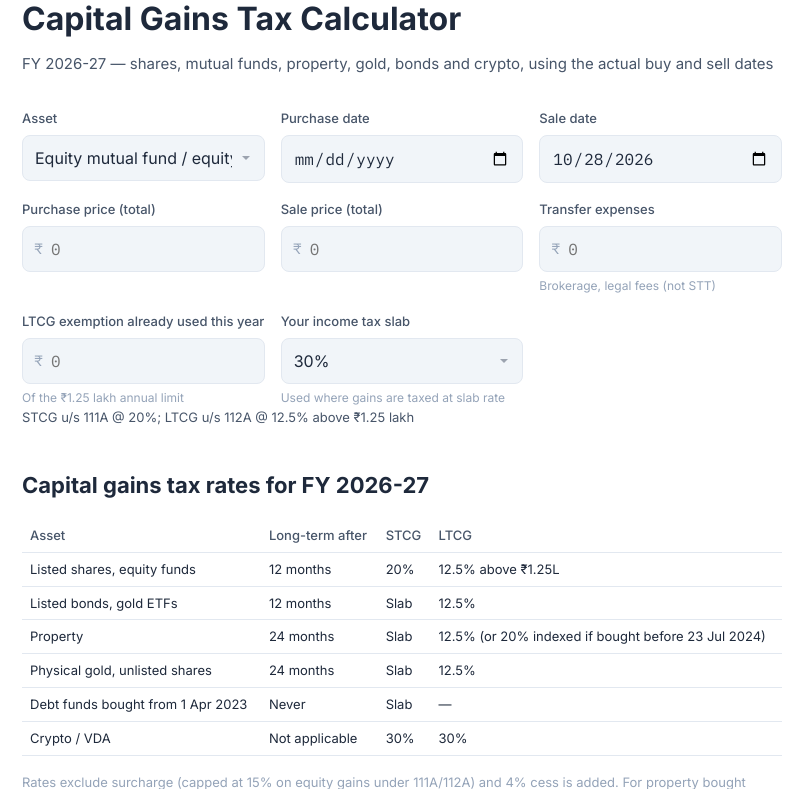
Test case: CapitalGainsCalculator page › computes equity LTCG with the 112A exemption
The width and height of the screenshot is (805, 789).
Type "2023-01-01" into the date field below "Purchase date" at x=402, y=159, box [281, 135, 523, 183]
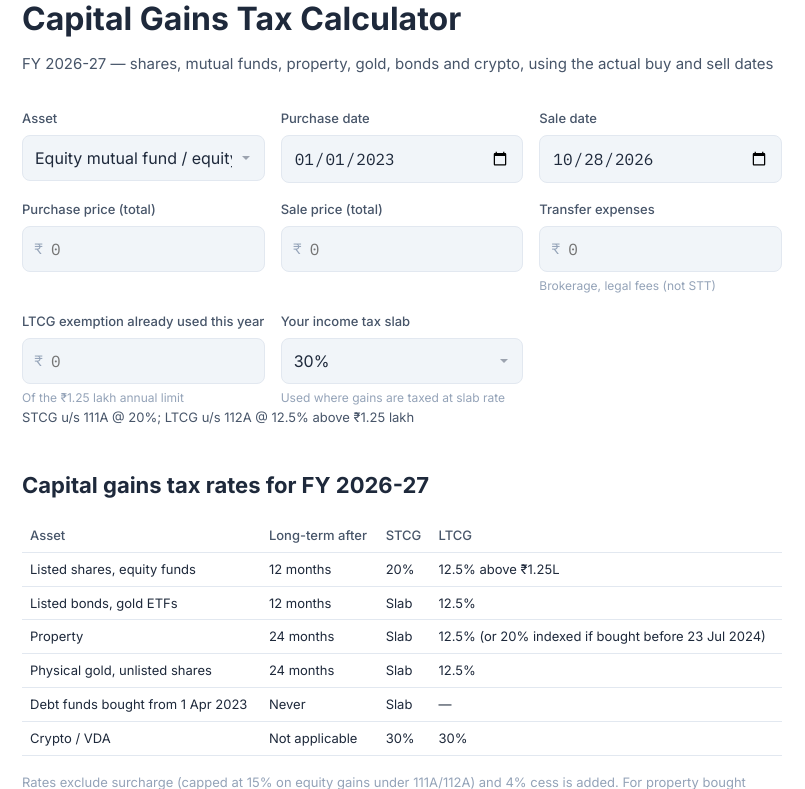
Type "2026-06-01" into the date field below "Sale date" at x=661, y=159, box [539, 135, 782, 183]
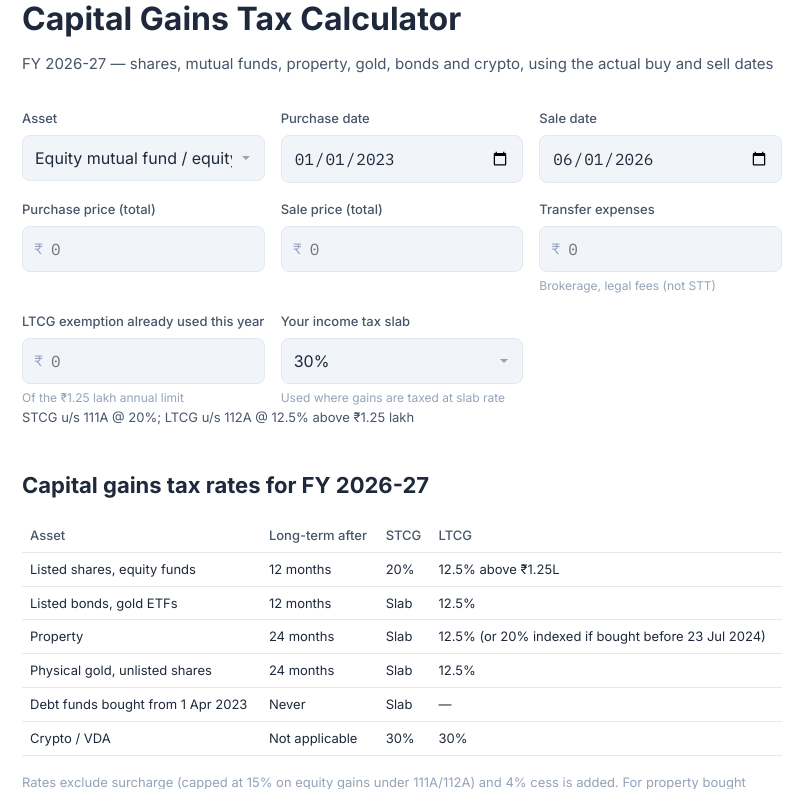
Type "500000" into the number field with placeholder "0" below "Purchase price (total)" at x=143, y=249, box [22, 226, 265, 272]
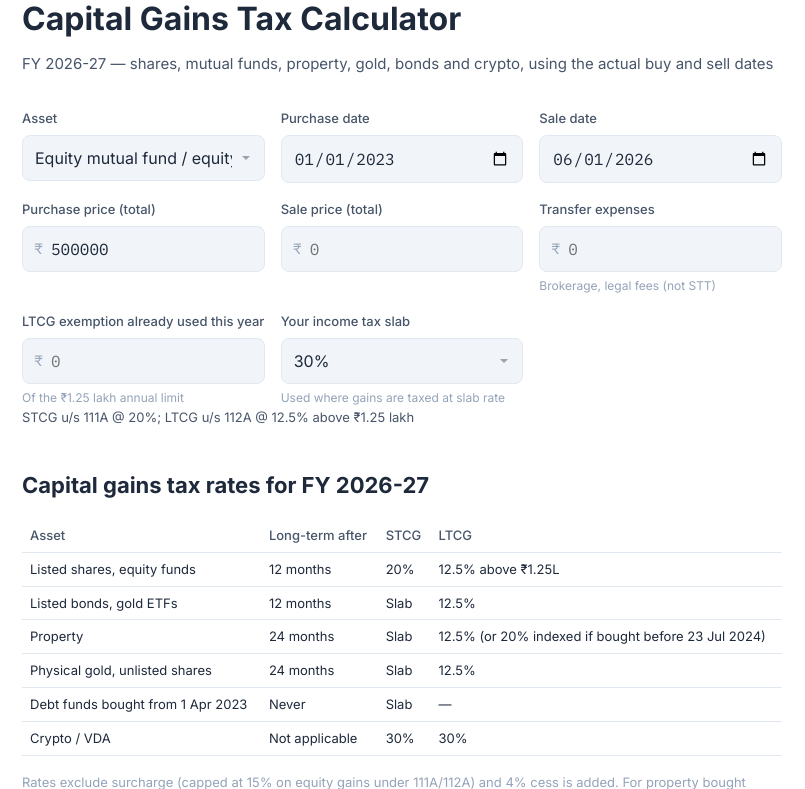
Type "750000" into the number field with placeholder "0" below "Sale price (total)" at x=402, y=249, box [281, 226, 523, 272]
(page scrolled)
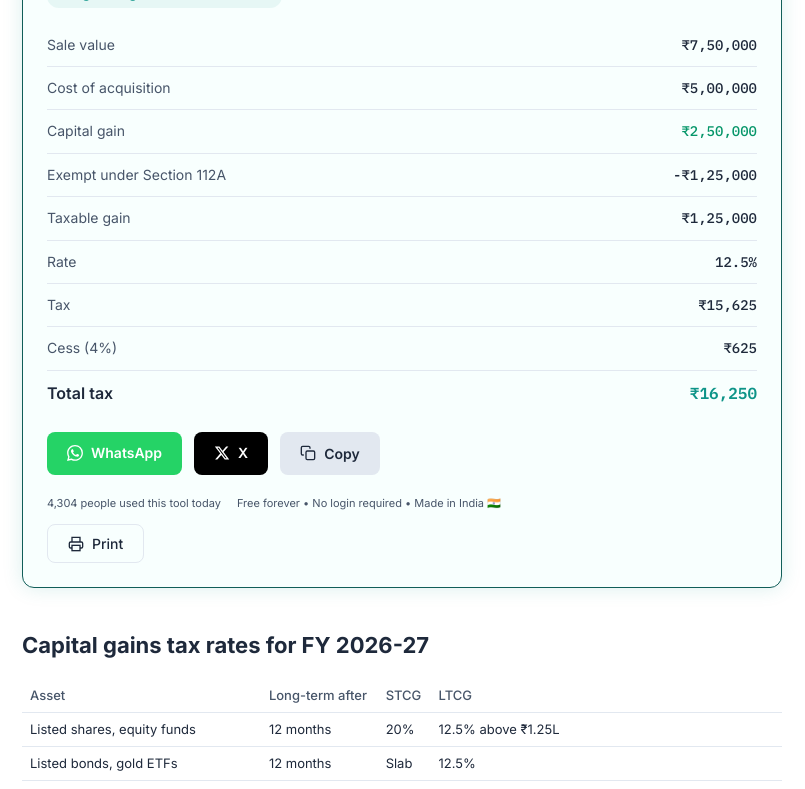
Expected: the text with test id "total-tax" reads "₹16,250", [690, 383, 757, 403]
